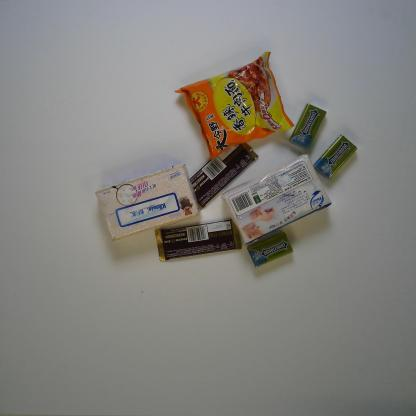Chocolate: (188, 140, 260, 211), (155, 218, 242, 262)
Gum: (313, 134, 357, 180), (289, 102, 327, 150), (247, 232, 294, 268)
Instant Noodles: (174, 51, 294, 162)
Tissue: (221, 153, 332, 246), (95, 163, 200, 241)
